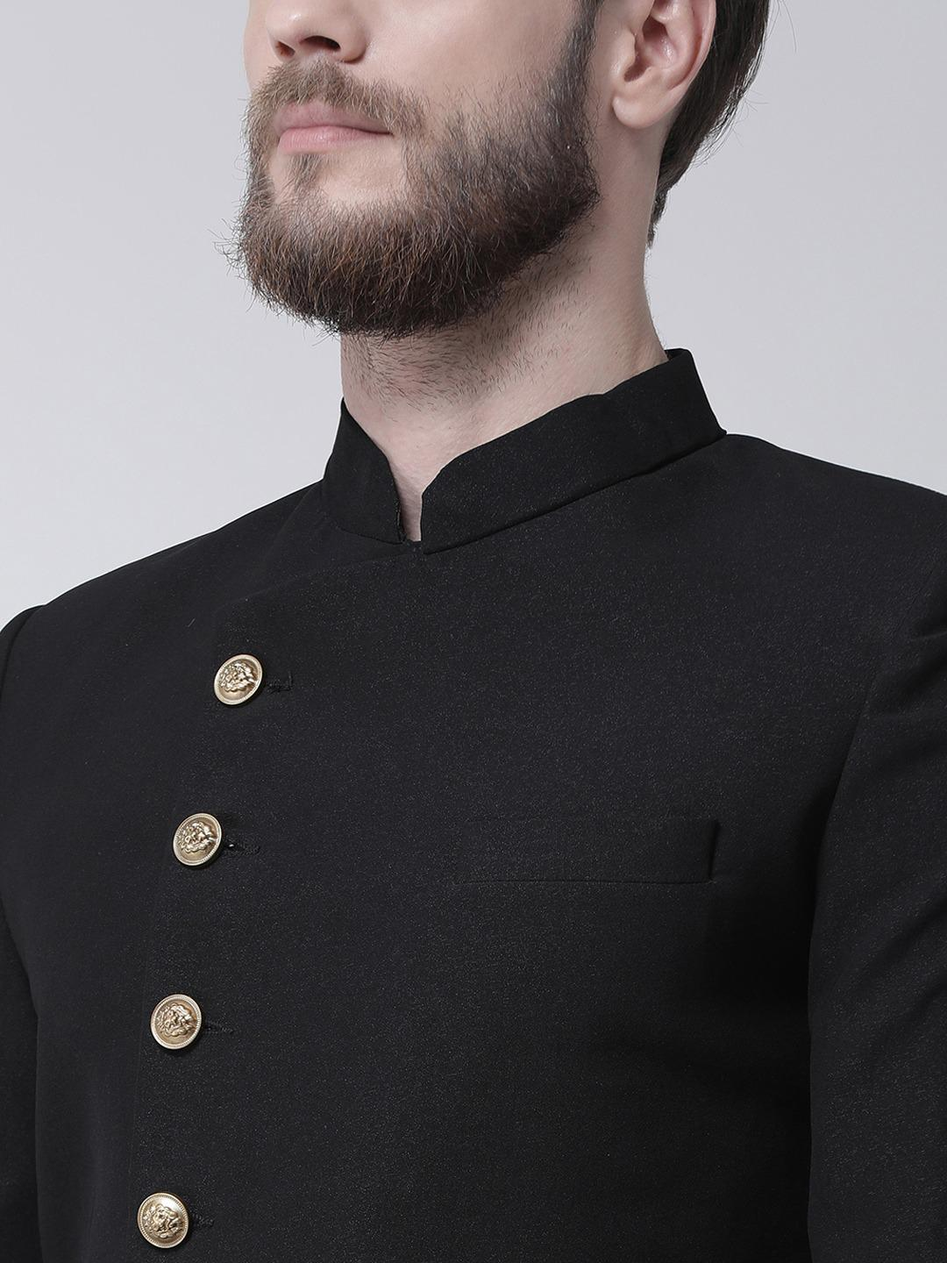Plain Sherwani: (0, 351, 942, 1258)
